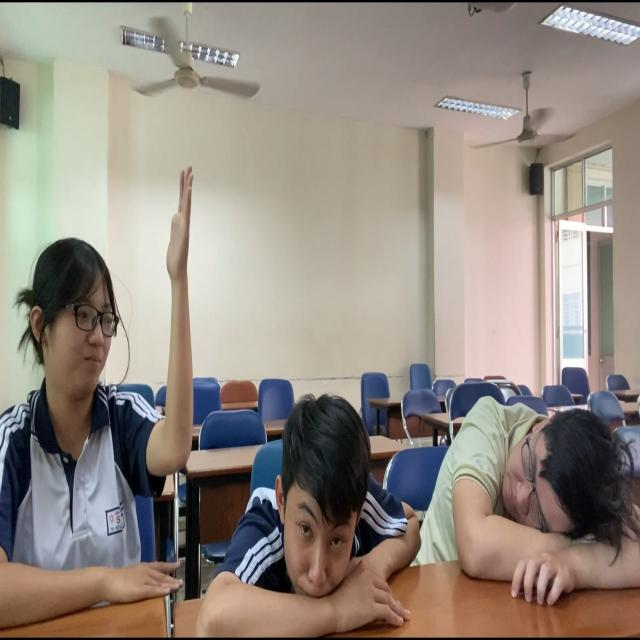raise_hand: (1, 118, 217, 640)
sleep: (398, 385, 640, 640)
